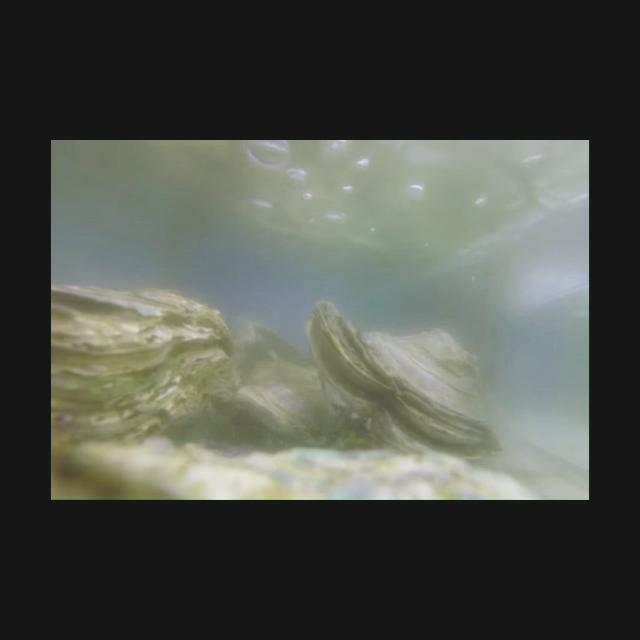Oyster-Closed: (52, 436, 532, 499), (51, 285, 239, 442), (232, 319, 310, 380), (232, 382, 311, 440)
Oyster-Open: (306, 302, 500, 456)
